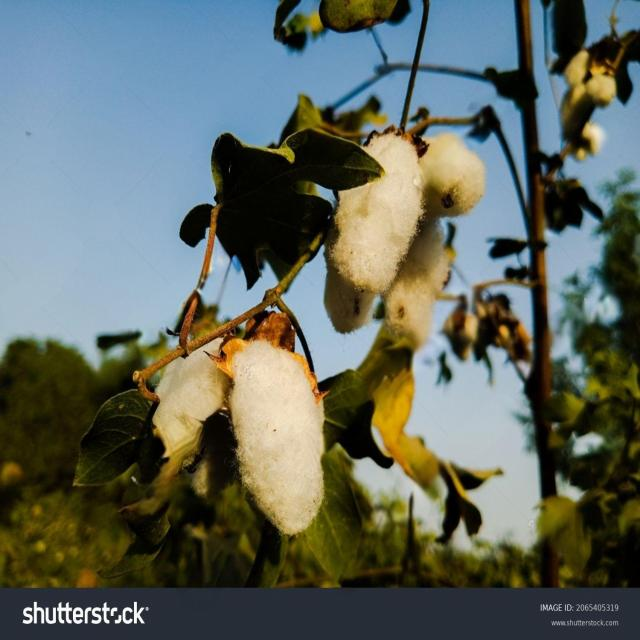Leaf: (305, 113, 507, 367), (142, 317, 342, 550)
